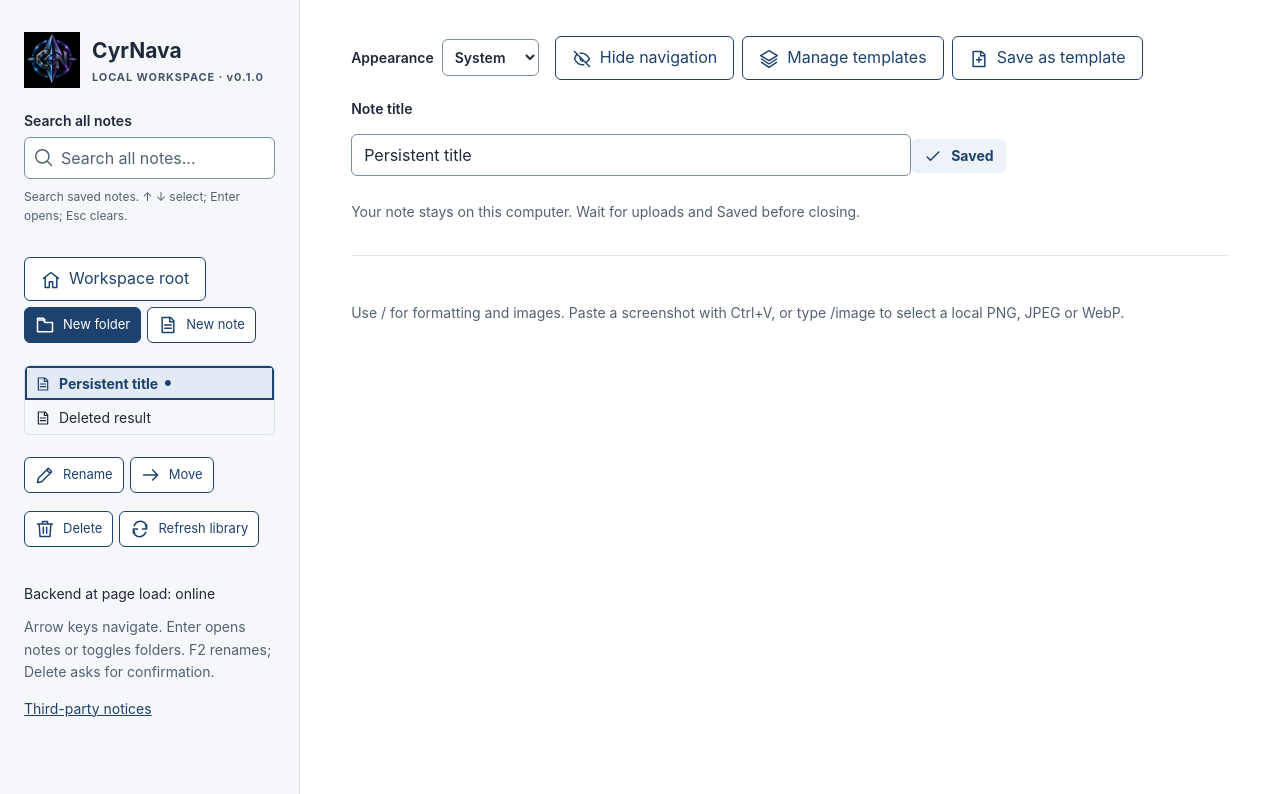
Scenario: F-09 search navigation › preserves the active editor if a result was deleted or the fresh tree cannot load
Type "matching" into the dropdown labelled "Search all notes". click: (150,158)
box: [24,137,275,179]
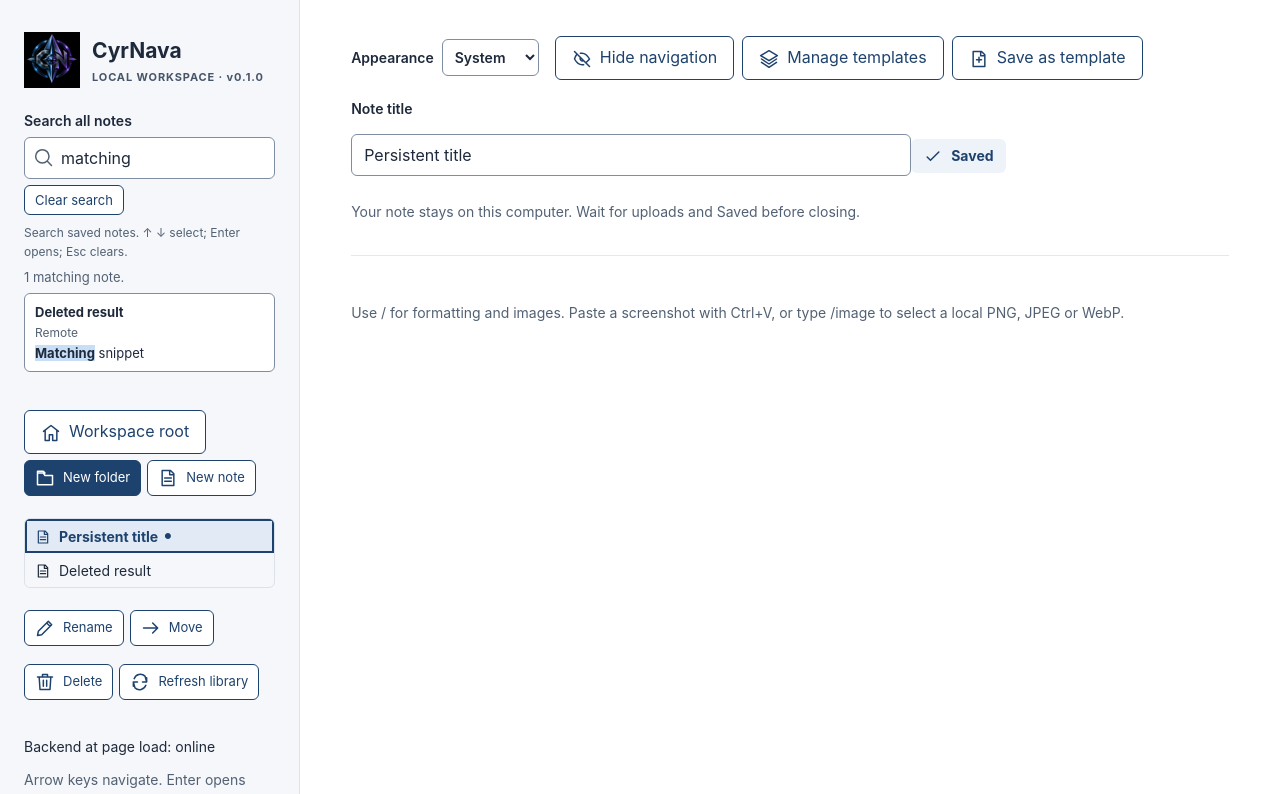
Click the option with aria-label "Open note: Deleted result". click: (150,333)
box: [24,293,275,372]
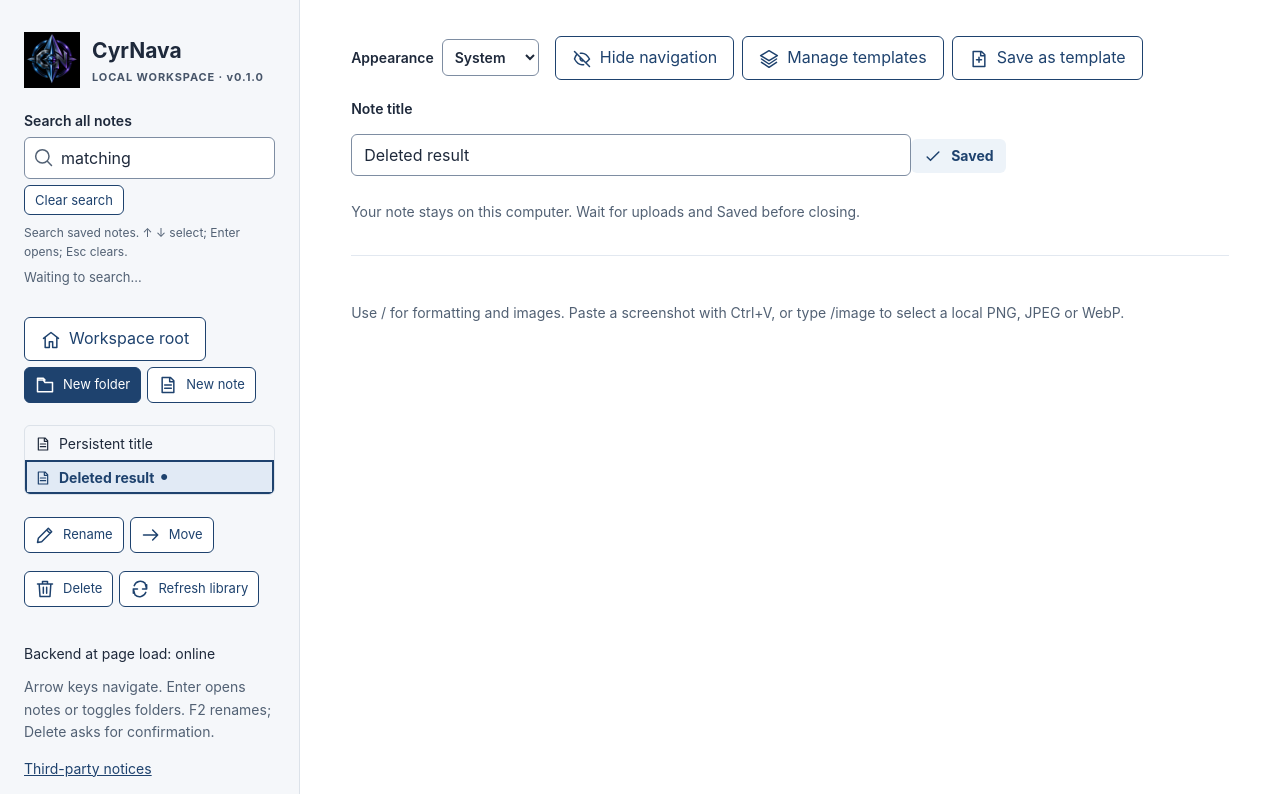
Check: the field labelled "Note title" holds "Deleted result", box [351,134,911,176]
Click the list item with aria-label "Note Persistent title". click: (94,443)
box: [35,435,153,452]
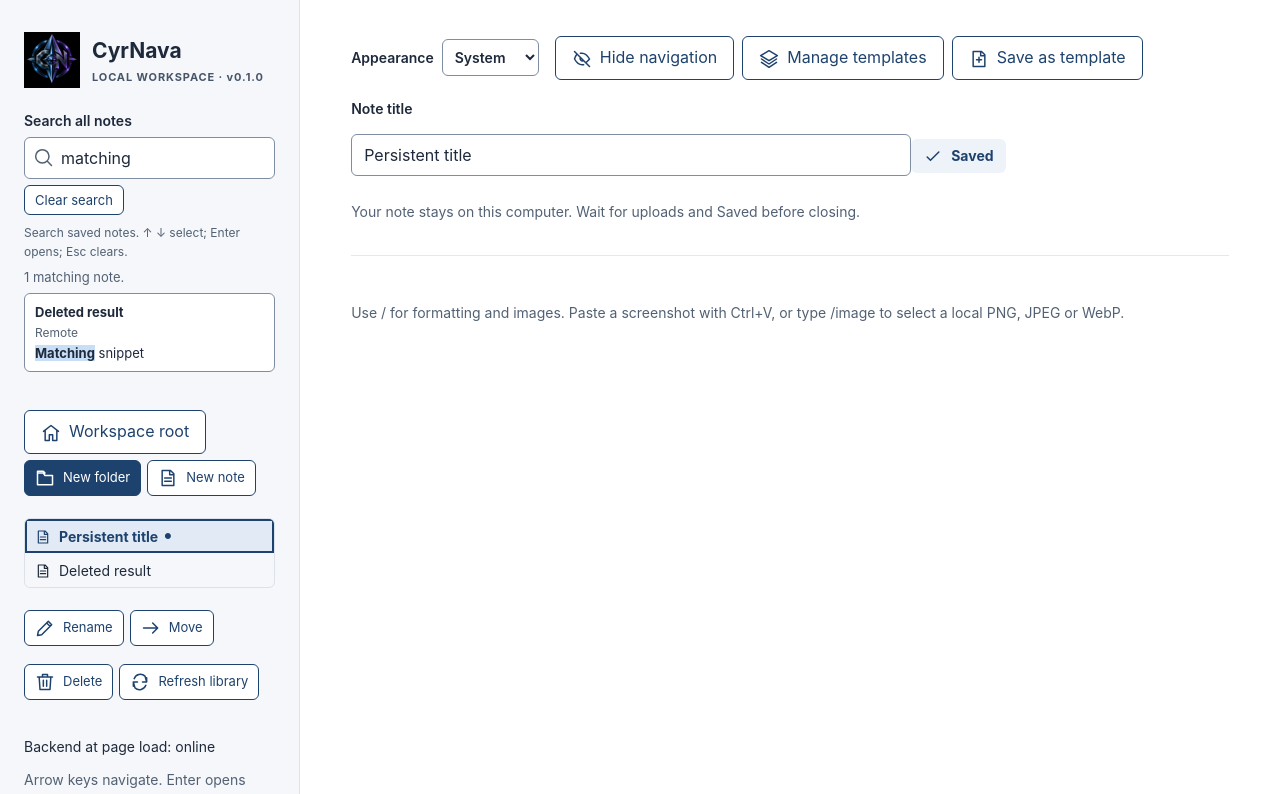
Check: the field labelled "Note title" holds "Persistent title", box [351,134,911,176]
Click the option with aria-label "Open note: Deleted result". click: (150,333)
box: [24,293,275,372]
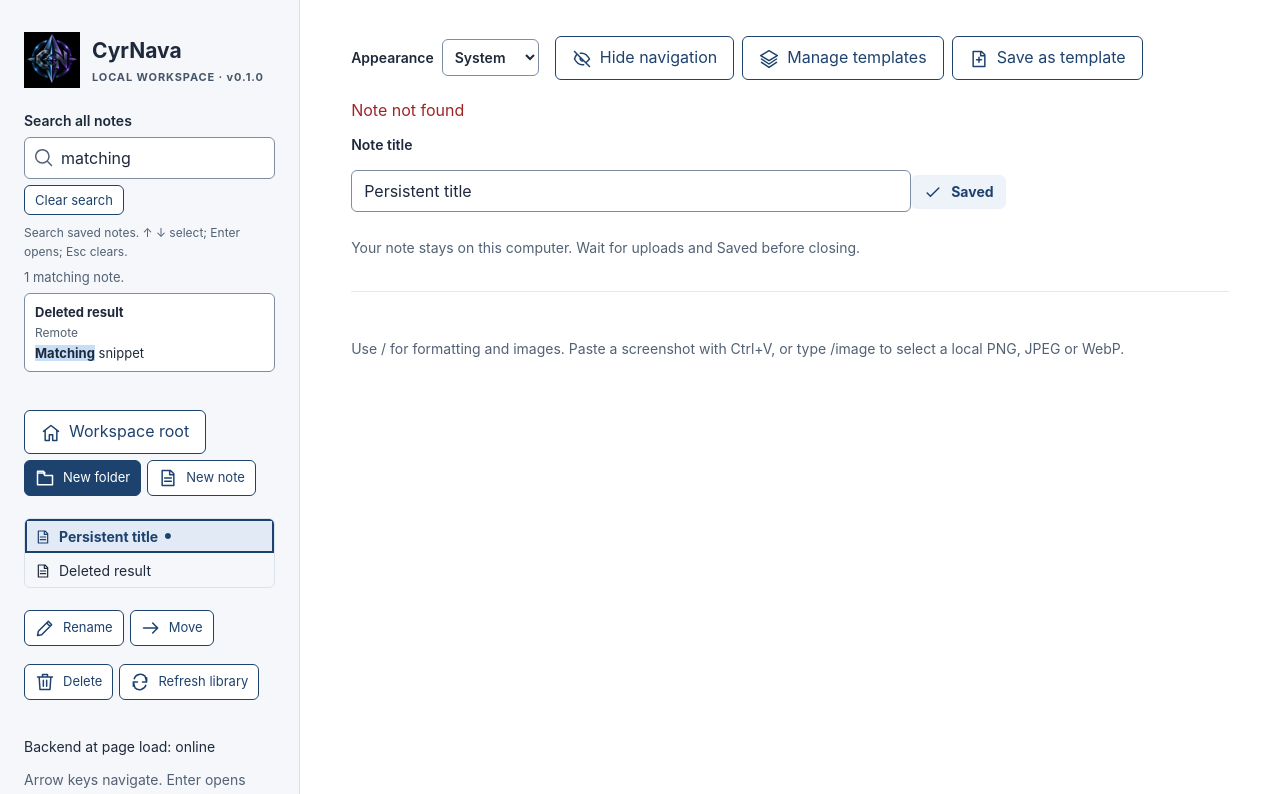
Check: the text "Note not found" is shown, box [351,100,464,120]
Click the option with aria-label "Open note: Deleted result". click: (150,333)
box: [24,293,275,372]
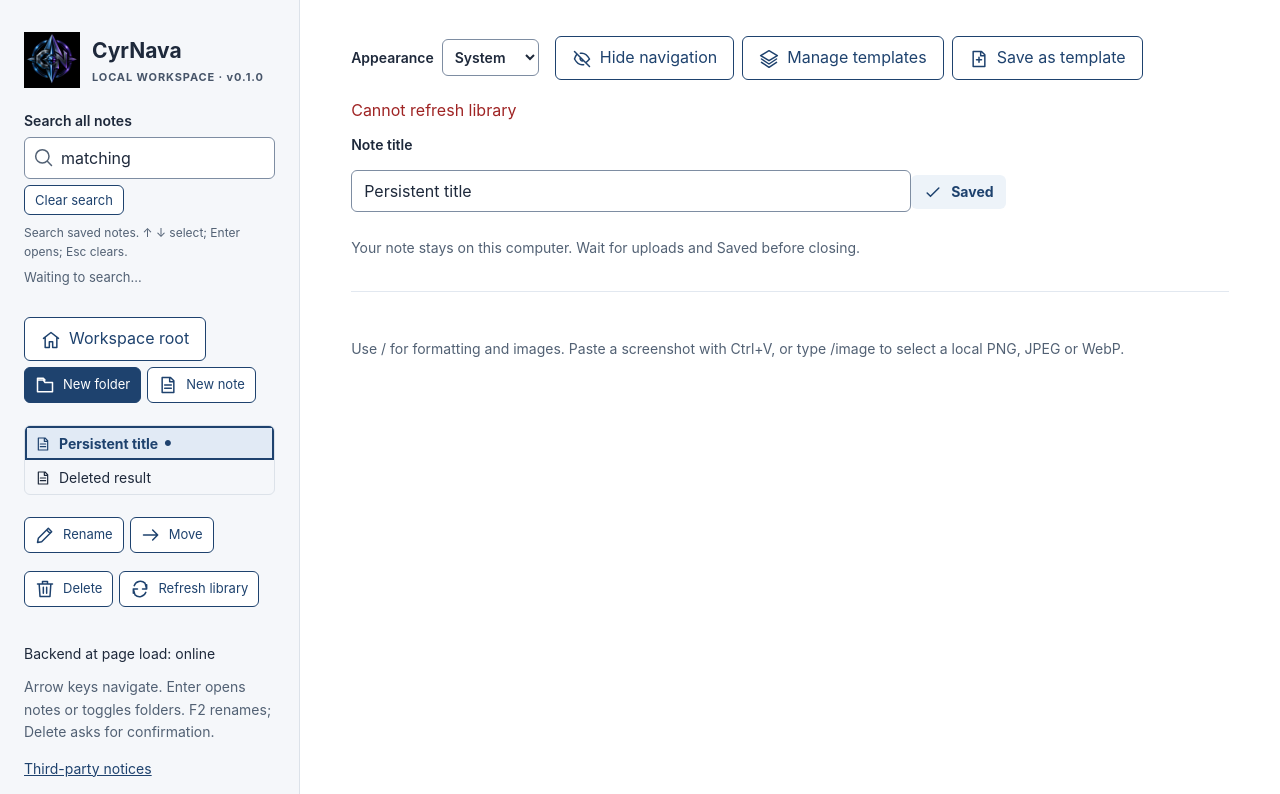
Check: the field labelled "Note title" holds "Persistent title", box [351,170,911,212]
Check: the text "Cannot refresh library" is shown, box [351,100,516,120]
